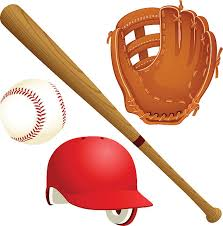baseball bat: (1, 2, 223, 223)
